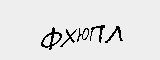Л: (108, 24, 124, 44)
П: (88, 24, 106, 46)
Ф: (41, 24, 61, 52)
Х: (63, 27, 79, 47)
Ю: (76, 24, 91, 44)
